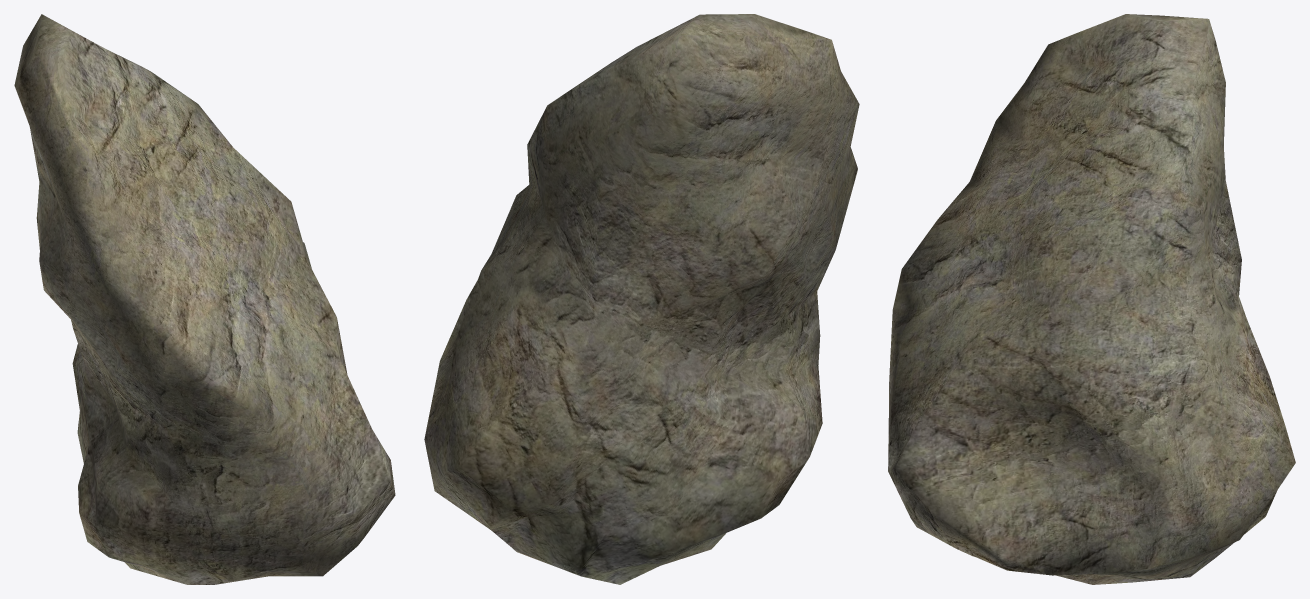
3 views of the same model, side by side, from view 1: azimuth 30°, elevation 25°; view 2: azimuth 150°, elevation 25°; view 3: azimuth 270°, elevation 25° (orthographic). The views are drawn at different scales.
Visible parts, largest first — view 1: Object_3; view 2: Object_3; view 3: Object_3.
Boxes of the visible parts, x1=… form: Object_3: x1=14, y1=14, x2=395, y2=584; Object_3: x1=424, y1=14, x2=859, y2=584; Object_3: x1=888, y1=14, x2=1295, y2=584.
Size of the model in its own units: 1.09 by 1.85 by 1.35.
Materials: 1 (1 with a texture image).
